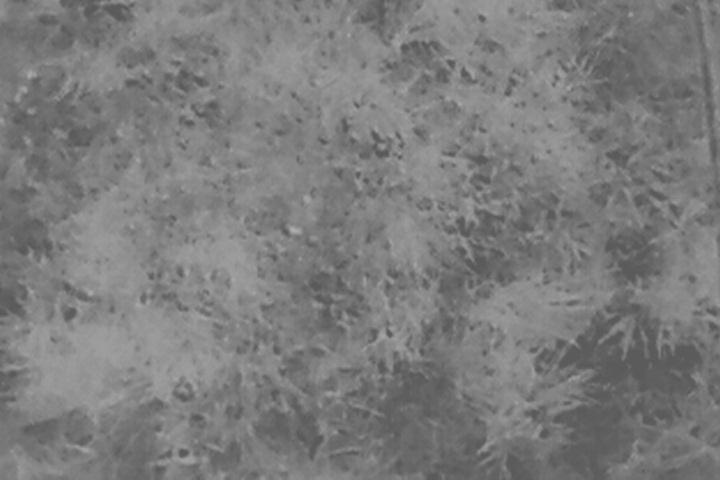landmine: (262, 135, 344, 268)
